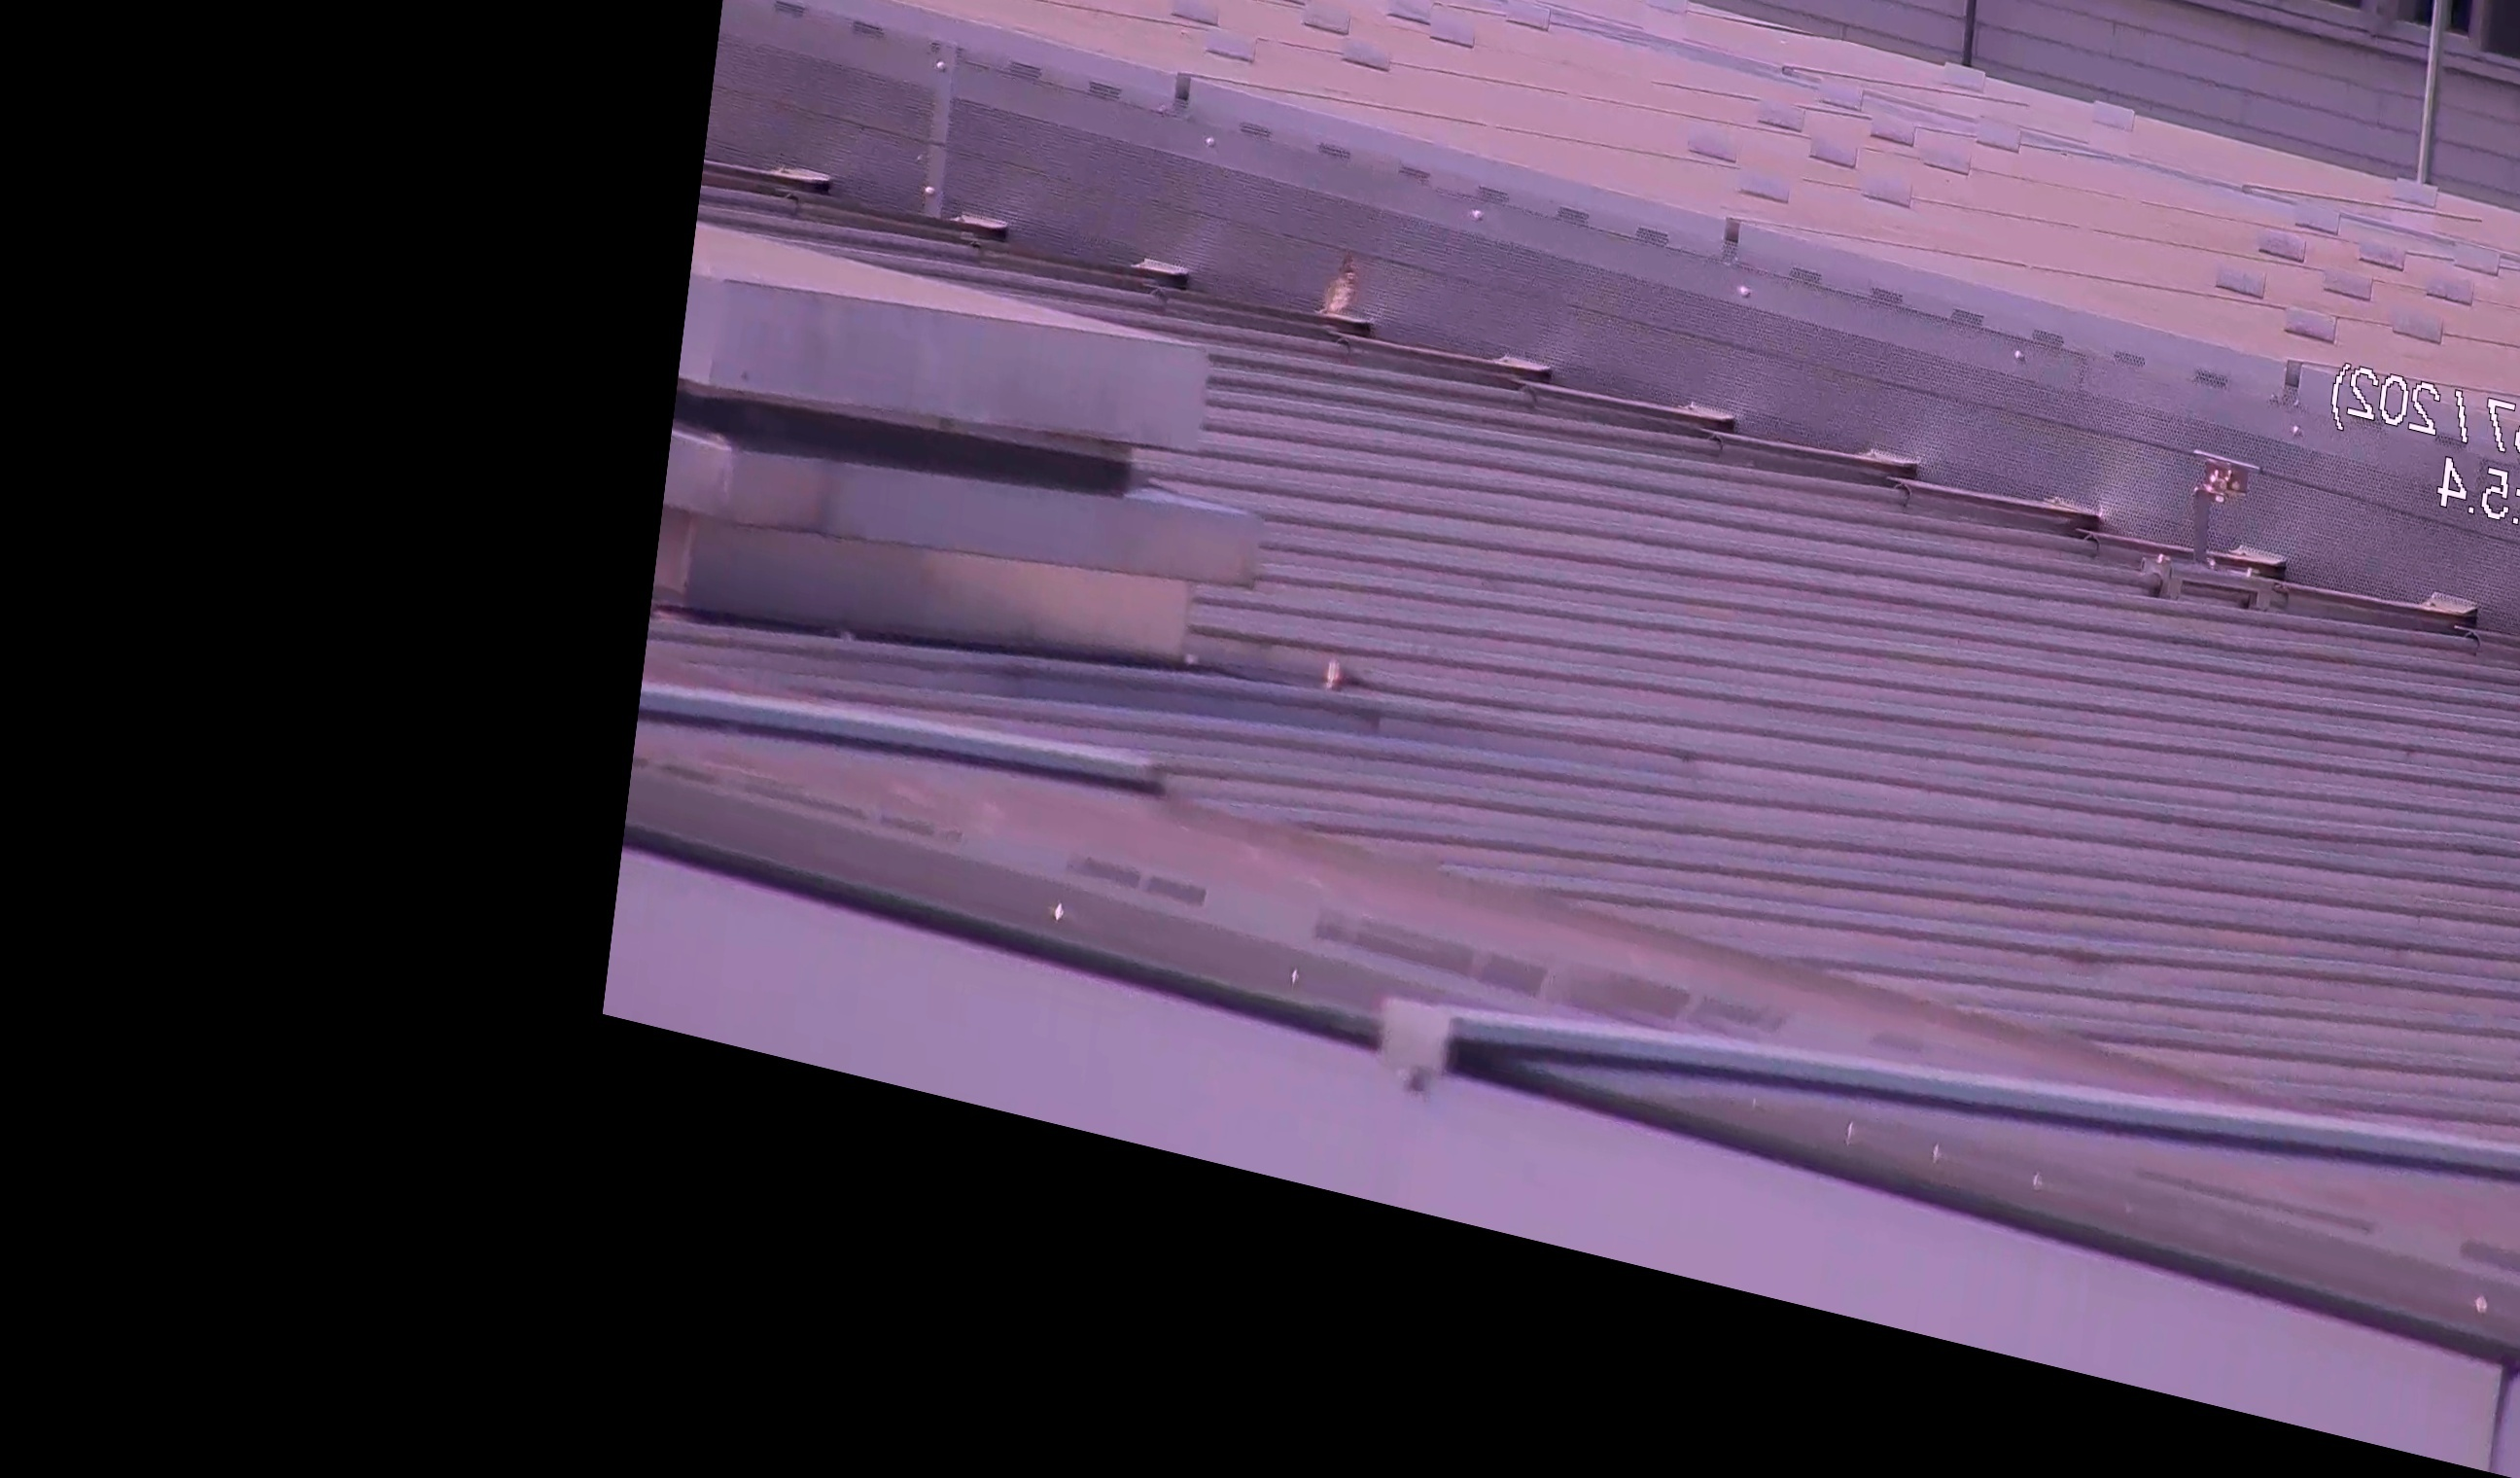Other: (1305, 229, 1380, 341)
